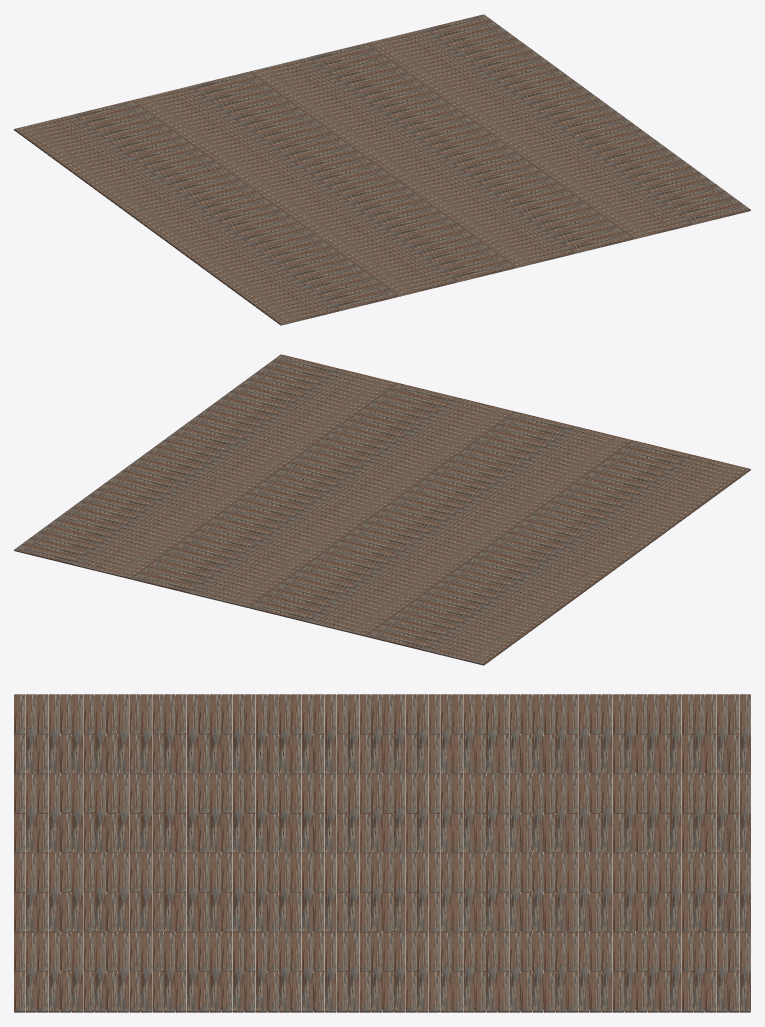
The model's file is DungeonCeling.fbx.
3 views of the same model, one above another, from view 1: azimuth 30°, elevation 25°; view 2: azimuth 150°, elevation 25°; view 3: azimuth 270°, elevation 25° (orthographic). The views are drawn at different scales.
Visible parts, largest first — view 1: ceiling; view 2: ceiling; view 3: ceiling.
Boxes of the visible parts, bbox=[...] form: ceiling: bbox=[14, 14, 750, 325]; ceiling: bbox=[14, 354, 750, 665]; ceiling: bbox=[14, 694, 750, 1012].
Size of the model in its own units: 3622 by 9.36 by 3564.
